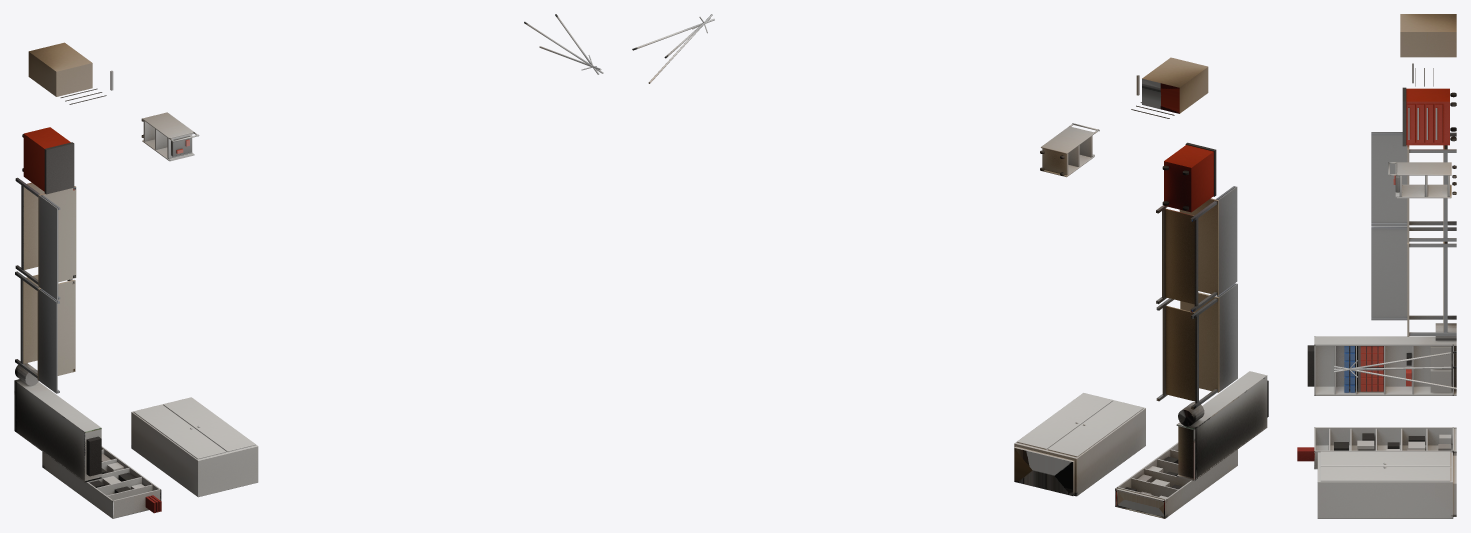
Rendered from office_west.obj.
The picture shows the model from 3 angles, left to right: view 1: azimuth 30°, elevation 25°; view 2: azimuth 150°, elevation 25°; view 3: azimuth 270°, elevation 25°; orthographic projection. The views are drawn at different scales.
Parts seen in each view (by area): view 1: BAKE_west; view 2: BAKE_west; view 3: BAKE_west.
Part boxes in pixels (x1,y1,x2,y2): BAKE_west: (14, 14, 603, 518); BAKE_west: (632, 14, 1268, 518); BAKE_west: (1297, 14, 1456, 518).
Bounding box in the file's own units: 8.98 × 6.65 × 2.26.
1 material, 1 textured.
